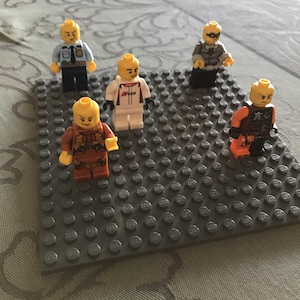Lego: (54, 96, 123, 182), (227, 77, 279, 159), (103, 51, 152, 135), (49, 19, 99, 93), (190, 20, 234, 91)
